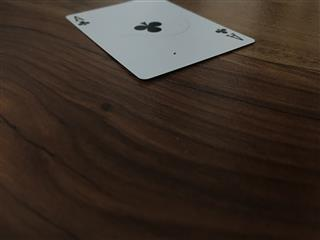AceOfClubs: (65, 1, 255, 79)
